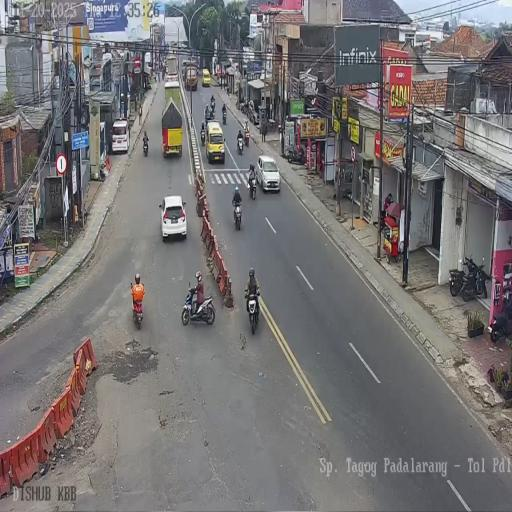car: (160, 195, 187, 243), (256, 154, 281, 193), (204, 120, 226, 164), (110, 119, 130, 155), (202, 67, 211, 87)
motorcycle: (180, 281, 215, 328), (461, 254, 488, 302), (489, 299, 511, 341), (245, 288, 261, 335), (131, 290, 144, 328), (449, 267, 465, 297), (286, 143, 305, 166), (232, 201, 243, 231), (247, 172, 257, 200), (240, 98, 249, 115), (237, 134, 244, 155), (200, 124, 206, 145), (244, 127, 250, 147), (142, 137, 148, 156), (222, 109, 227, 124), (277, 120, 282, 135), (210, 100, 215, 114), (235, 100, 239, 110)
truck: (161, 98, 183, 159), (184, 62, 198, 90), (166, 54, 178, 77)
